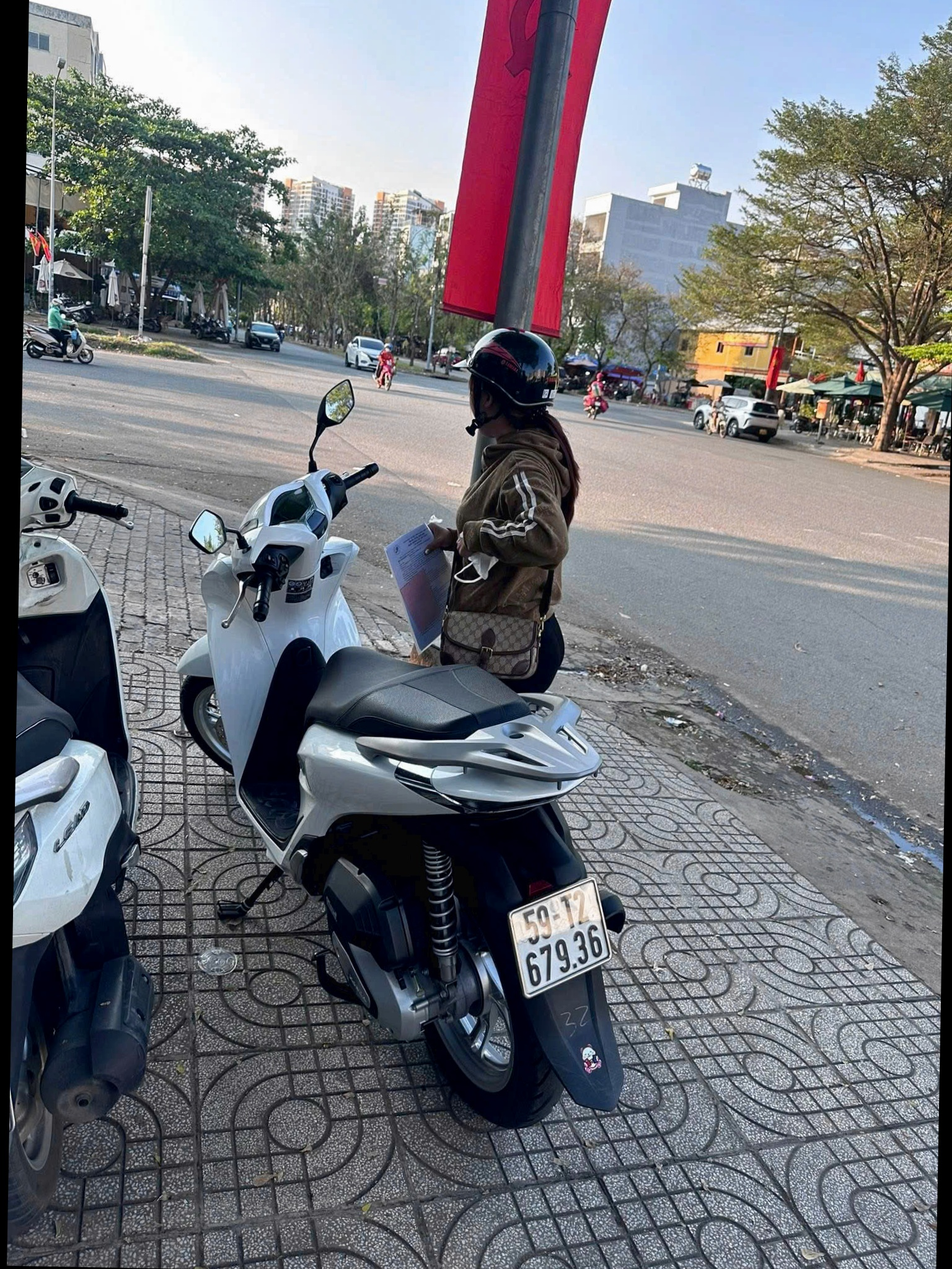Bien-so: (506, 868, 621, 1003)
